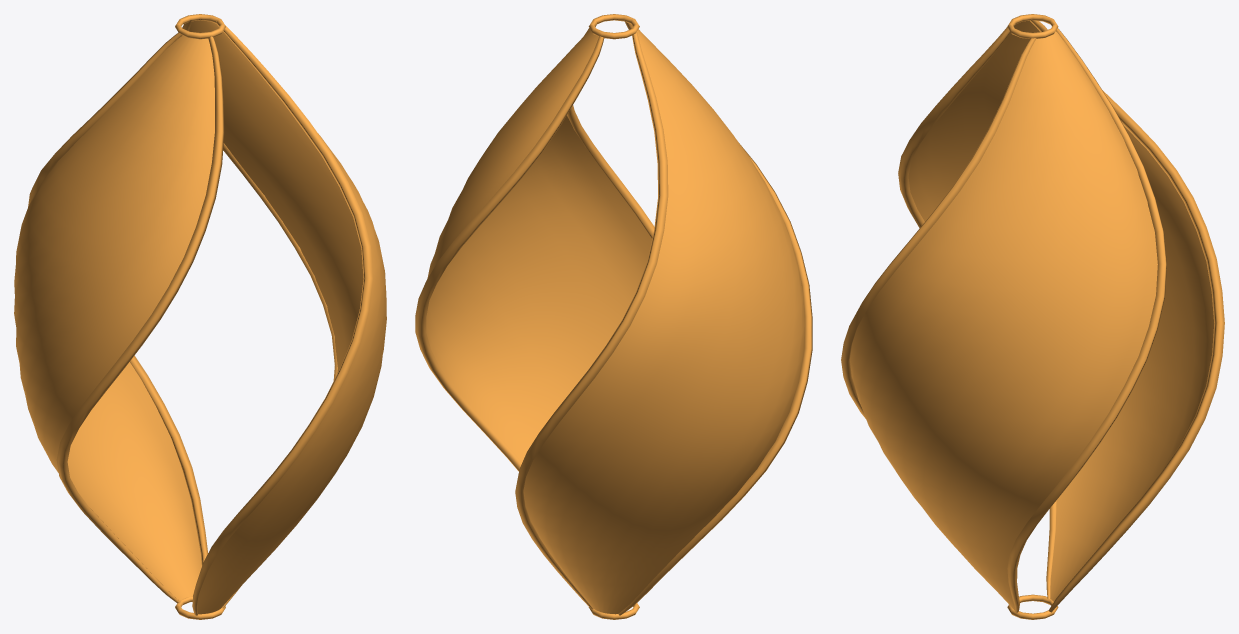
The model's file is AetherealShard outer.fbx.
3 views of the same model, side by side, from view 1: azimuth 30°, elevation 25°; view 2: azimuth 150°, elevation 25°; view 3: azimuth 270°, elevation 25° (orthographic).
Visible parts, largest first — view 1: OuterShell; view 2: OuterShell; view 3: OuterShell.
Part boxes in pixels (bbox=[...]): OuterShell: bbox=[14, 14, 386, 619]; OuterShell: bbox=[415, 14, 812, 619]; OuterShell: bbox=[841, 14, 1224, 619].
Size of the model in its own units: 8.12 by 13.79 by 8.19.
